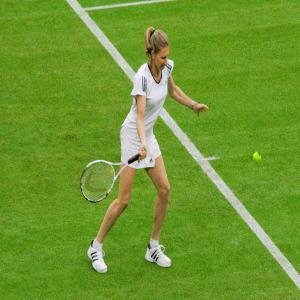TennisBall: (255, 153, 263, 163)
